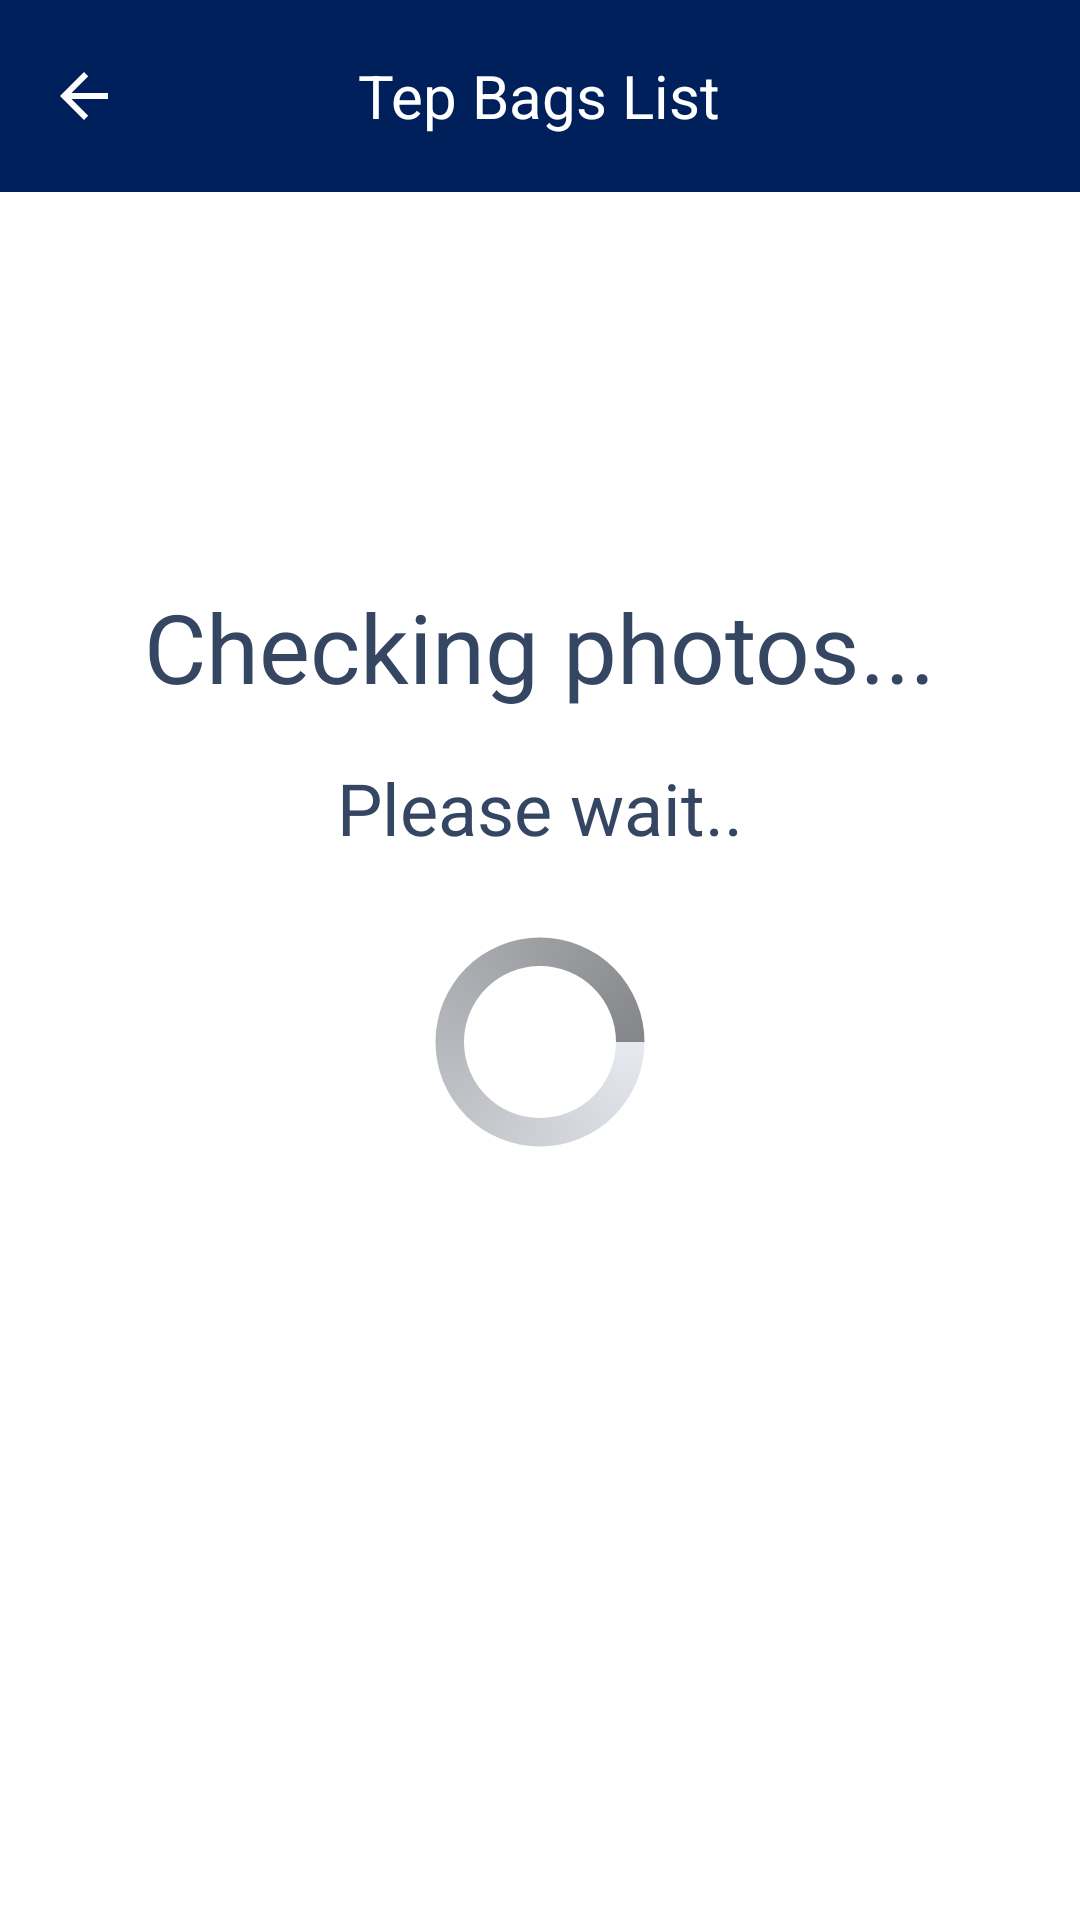

Icon click points for this 1080 x 1920 phone screenshot, format (x,y):
arrow back: (84,96)
